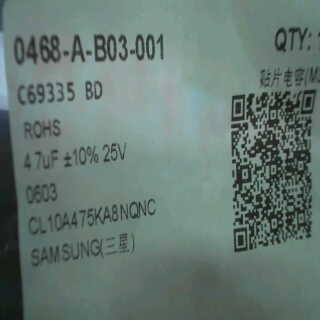4.7uF: (15, 146, 60, 177)
